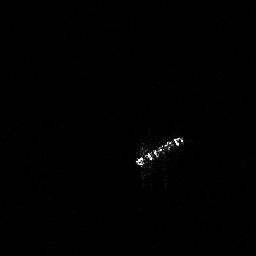ship: (131, 133, 188, 170)
